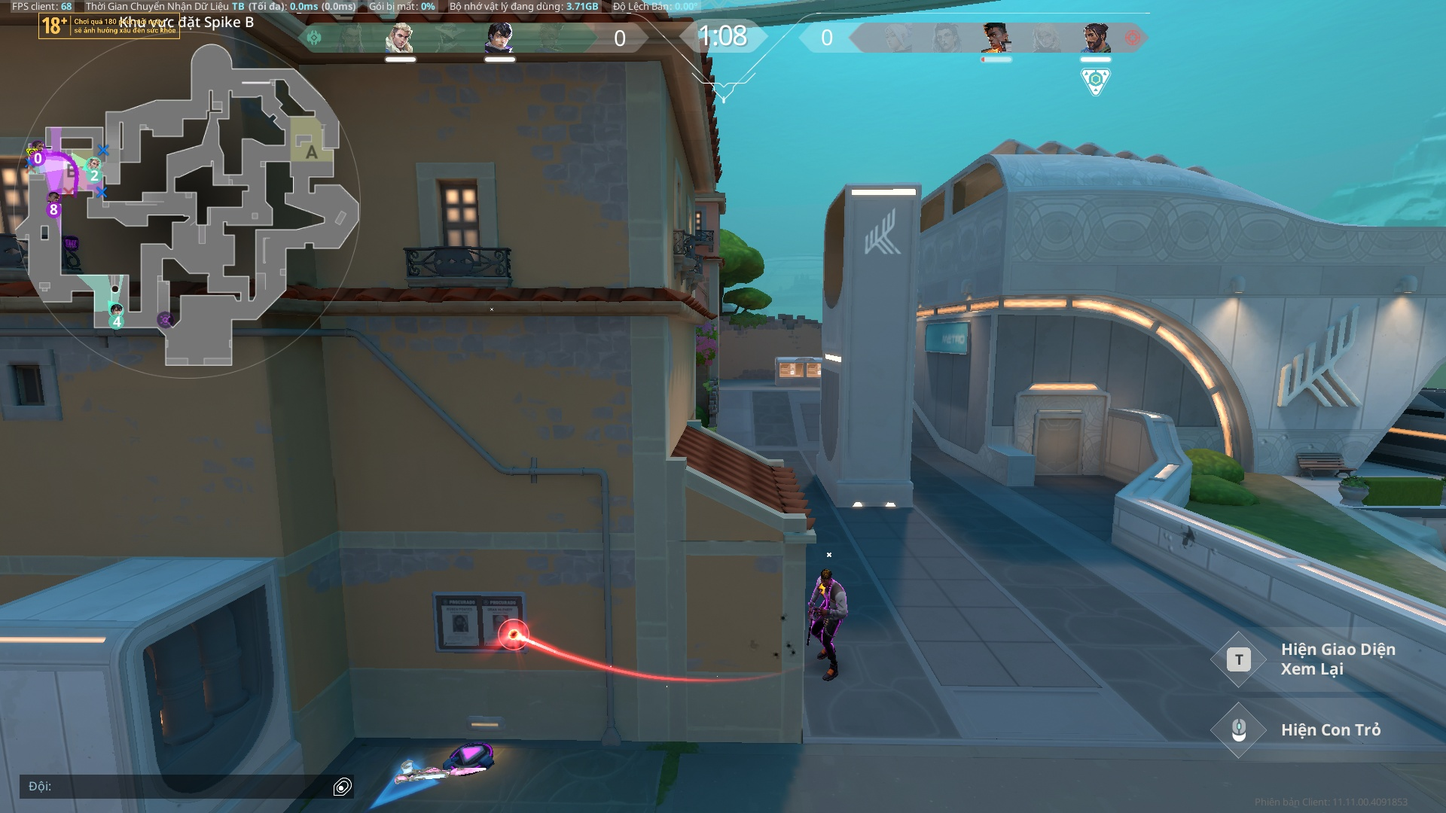body: (817, 577, 847, 616)
head: (819, 568, 831, 584)
